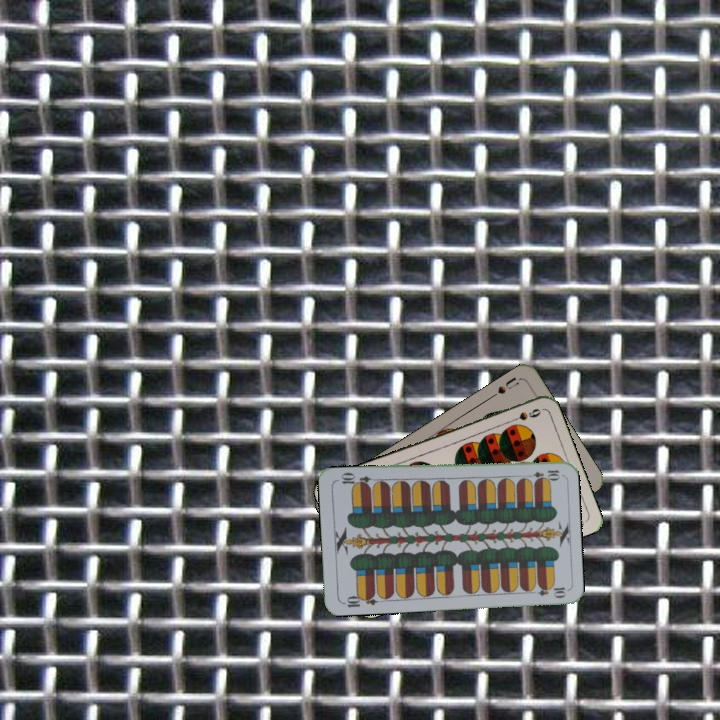E10: (339, 590, 379, 610), (522, 466, 562, 481)
S9: (504, 404, 544, 426)
SU: (486, 373, 521, 401)
